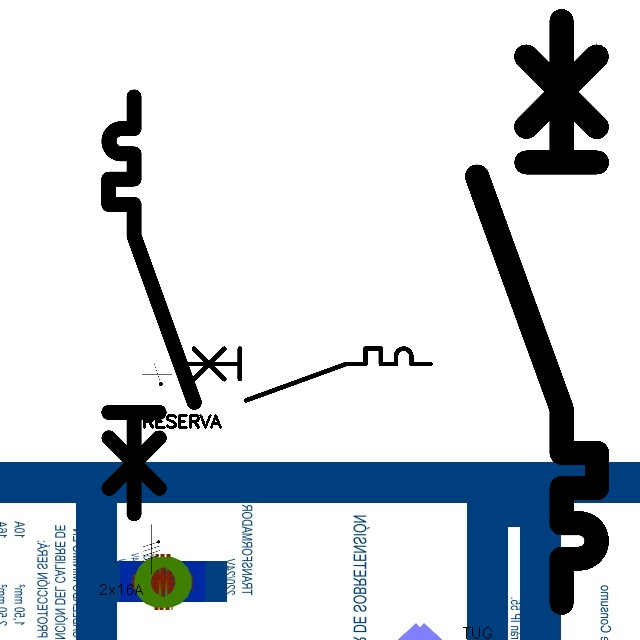interruptor_termomagnetico: (462, 6, 612, 618), (98, 86, 205, 524), (172, 342, 437, 407)
